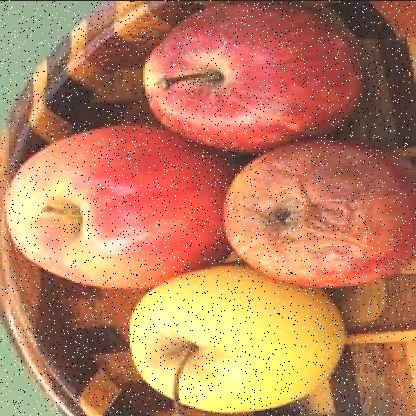apple: (9, 130, 212, 286), (150, 5, 349, 137), (150, 264, 311, 408)
damaged_apple: (224, 141, 412, 290)
